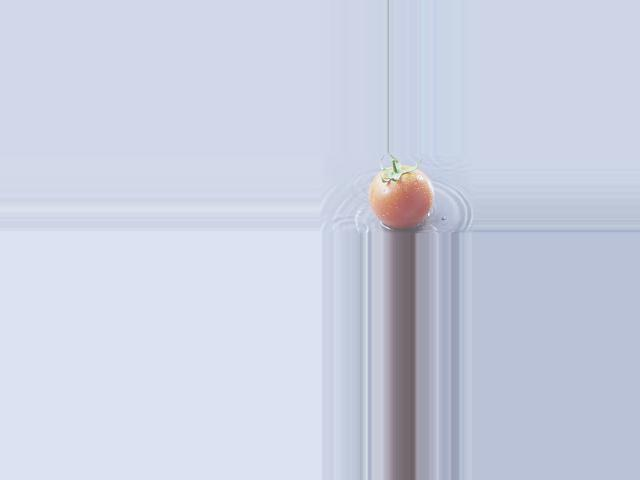tomato: (369, 166, 433, 229)
